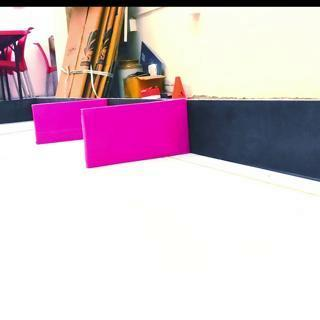xparking: (84, 106, 185, 161), (34, 105, 78, 143)
